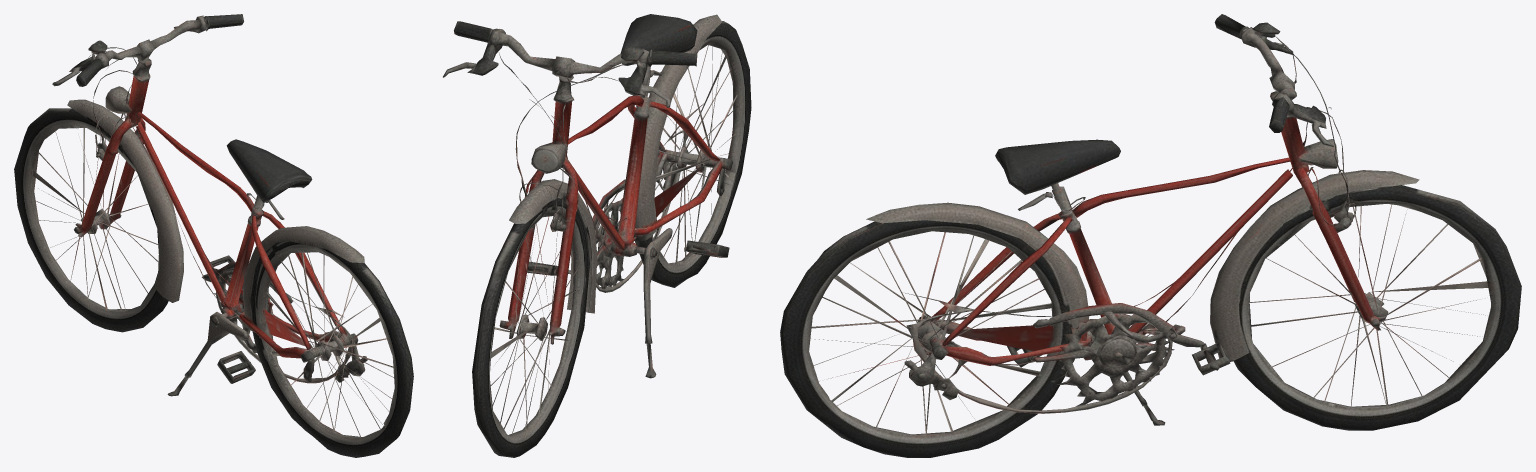
Rendered from p7-bicycle-t25.glb.
The picture shows the model from 3 angles, left to right: view 1: azimuth 30°, elevation 25°; view 2: azimuth 150°, elevation 25°; view 3: azimuth 270°, elevation 25°; orthographic projection. The views are drawn at different scales.
Visible parts, largest first — view 1: p7-bicycle-t25; view 2: p7-bicycle-t25; view 3: p7-bicycle-t25.
Part boxes in pixels (x1,y1,x2,y2): p7-bicycle-t25: (14, 14, 413, 457); p7-bicycle-t25: (443, 14, 751, 457); p7-bicycle-t25: (780, 14, 1521, 457).
Size of the model in its own units: 0.6 by 1 by 1.75.
1 material, 1 textured.
